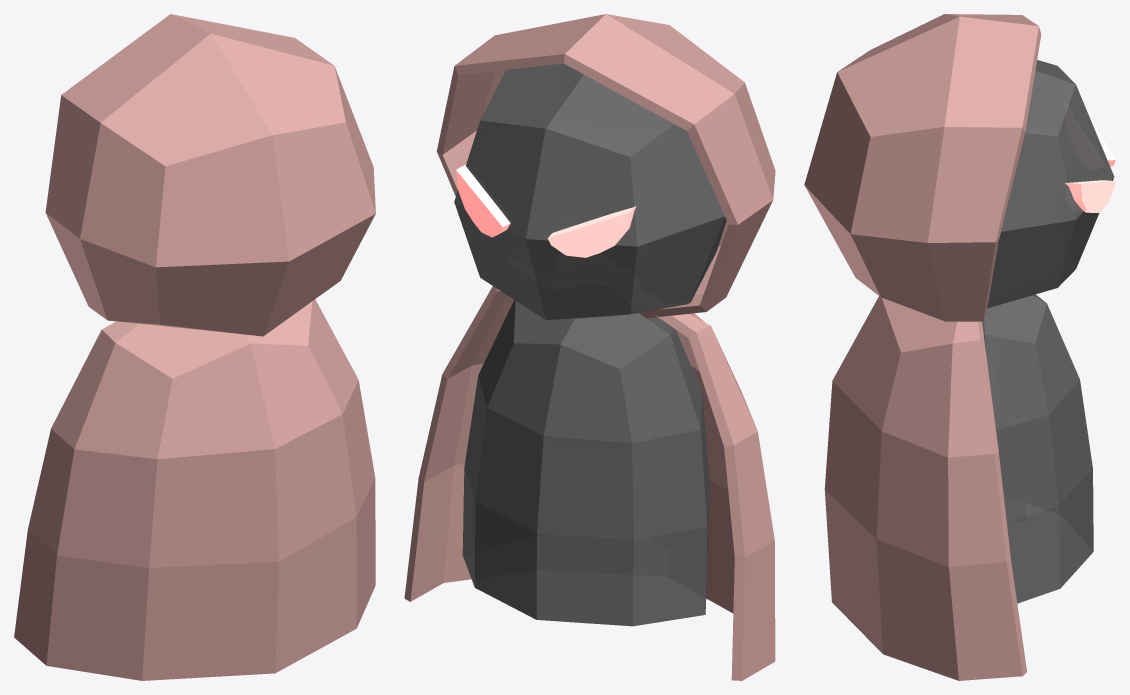
Rendered from Virus_Adware.fbx.
3 views of the same model, side by side, from view 1: azimuth 30°, elevation 25°; view 2: azimuth 150°, elevation 25°; view 3: azimuth 270°, elevation 25° (orthographic). The views are drawn at different scales.
Visible parts, largest first — view 1: Hacker; view 2: Hacker; view 3: Hacker.
Boxes of the visible parts, x1,y1,x2,y2 form: Hacker: (14,14,375,680); Hacker: (404,14,775,680); Hacker: (804,14,1115,680).
Bounding box in the file's own units: 1.36 × 1.12 × 2.34.
